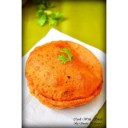poori: (25, 39, 103, 107)
